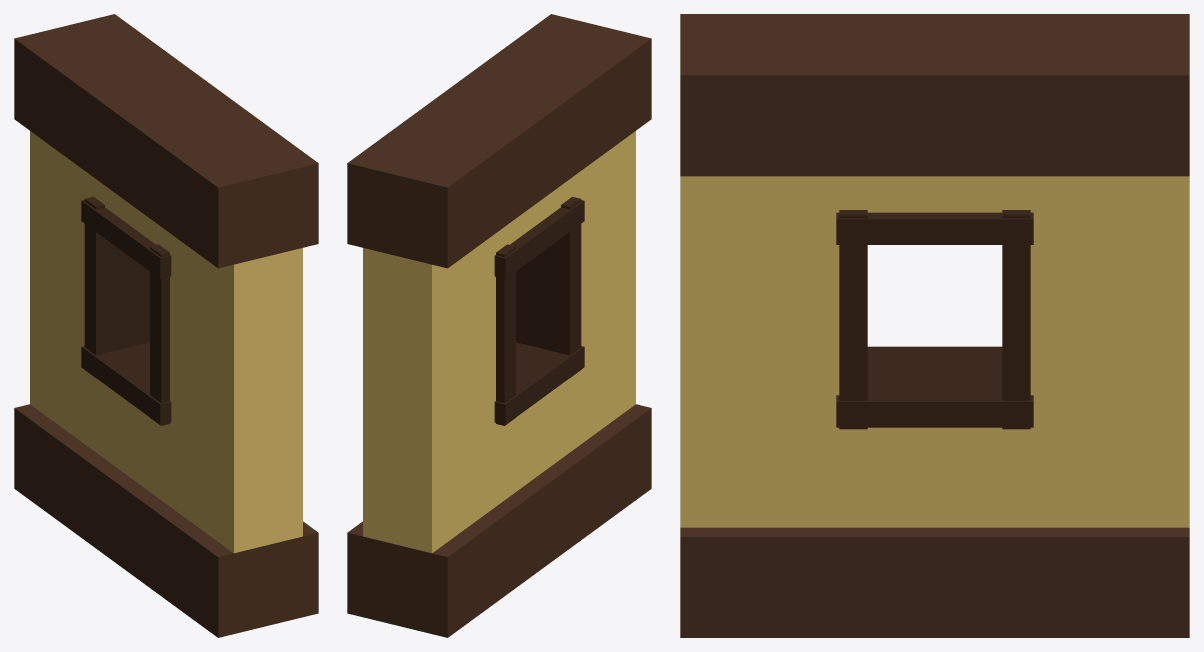
The model's file is Wall_Window_Open.fbx.
3 views of the same model, side by side, from view 1: azimuth 30°, elevation 25°; view 2: azimuth 150°, elevation 25°; view 3: azimuth 270°, elevation 25° (orthographic). The views are drawn at different scales.
Parts seen in each view (by area): view 1: Wall Window Opened; view 2: Wall Window Opened; view 3: Wall Window Opened.
Boxes of the visible parts, x1,y1,x2,y2 form: Wall Window Opened: (14, 14, 318, 637); Wall Window Opened: (347, 14, 651, 637); Wall Window Opened: (680, 14, 1189, 637).
Size of the model in its own units: 56.9 by 244 by 200.
